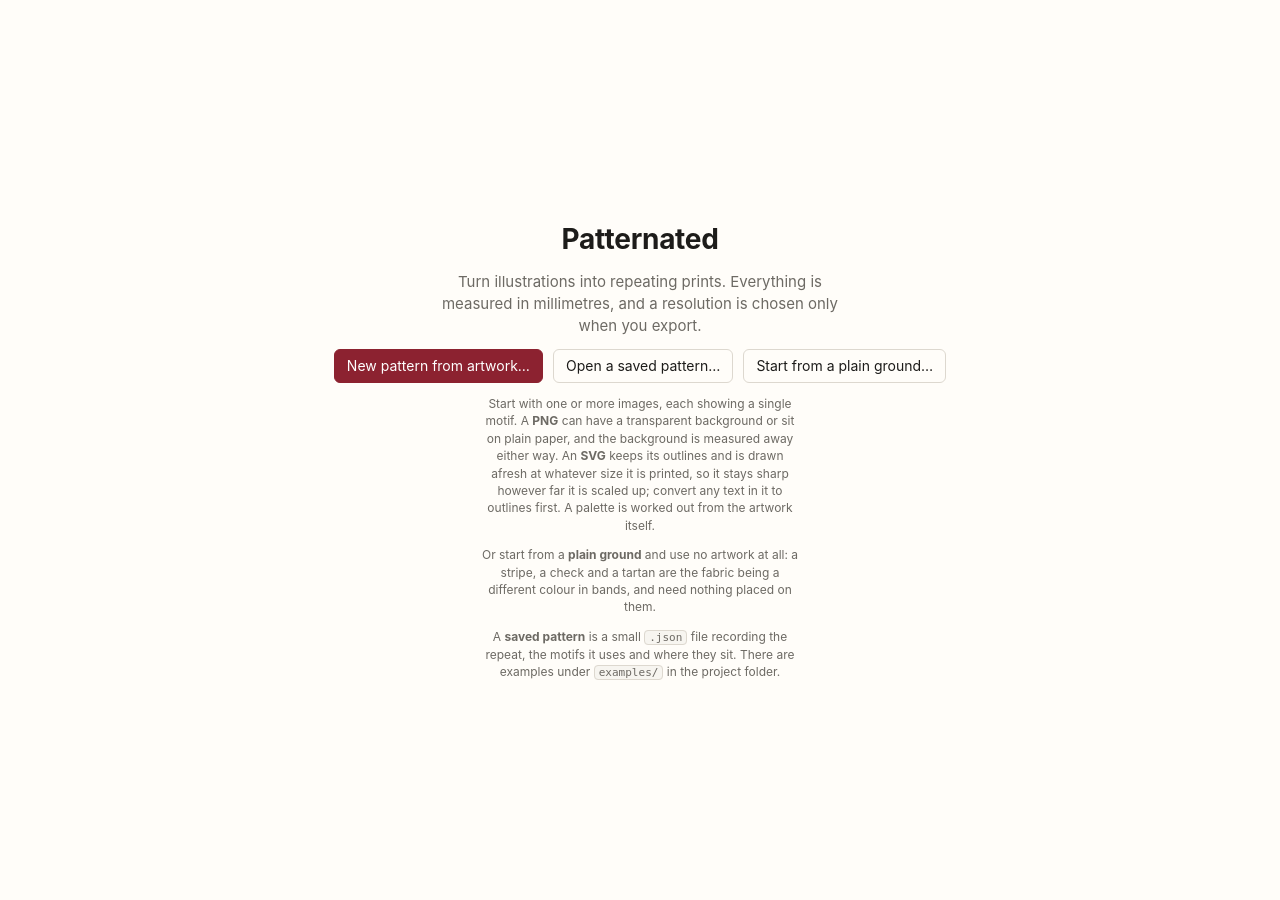
what the ingest wants to say › can be put away, because the artwork did come in
Click the button "Open a saved pattern…": (643, 366) [553,349,733,383]
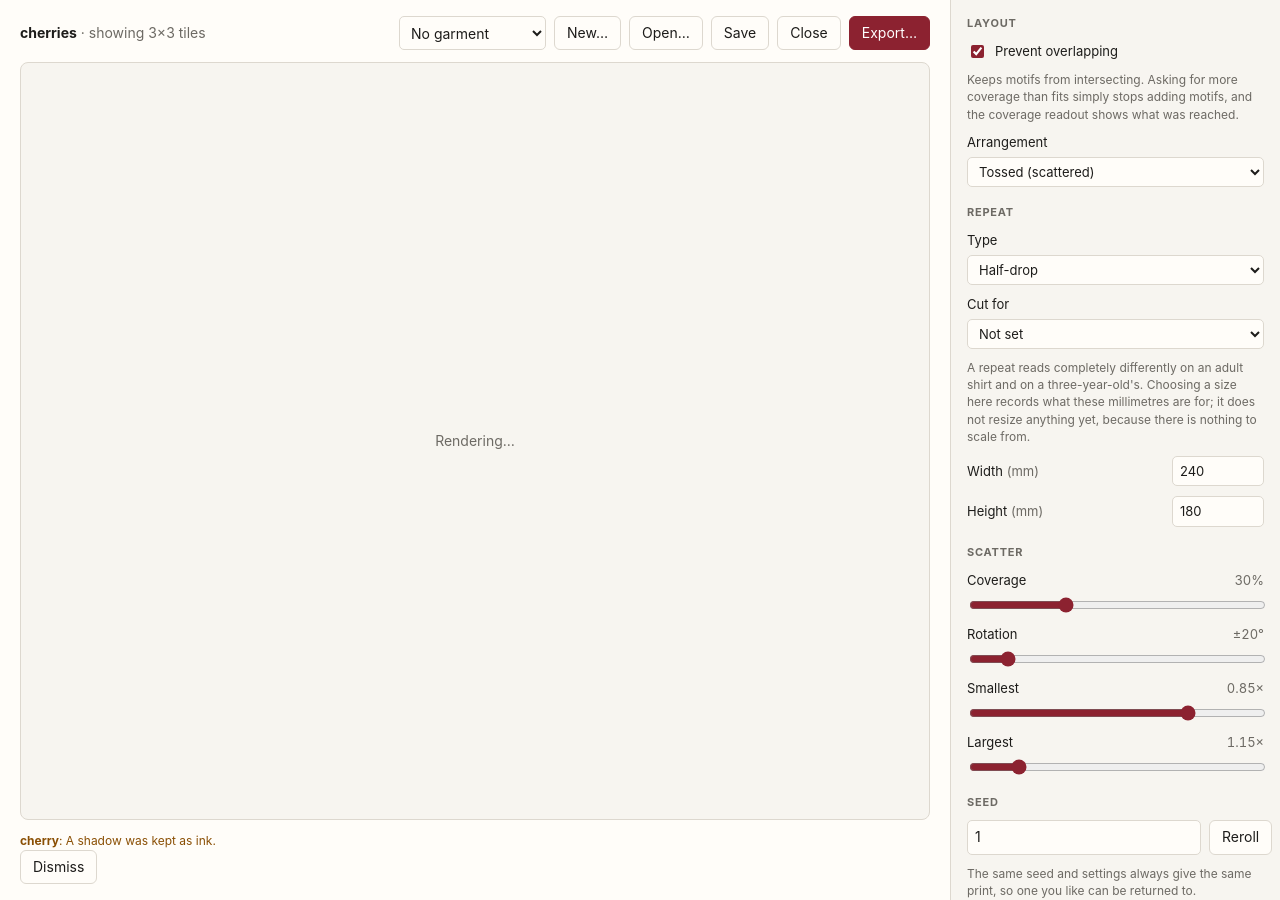
expect the button with test id "close" is shown: met, box [777,16,841,50]
Click the button with test id "dismiss-notes": (59, 867) [20,850,97,884]
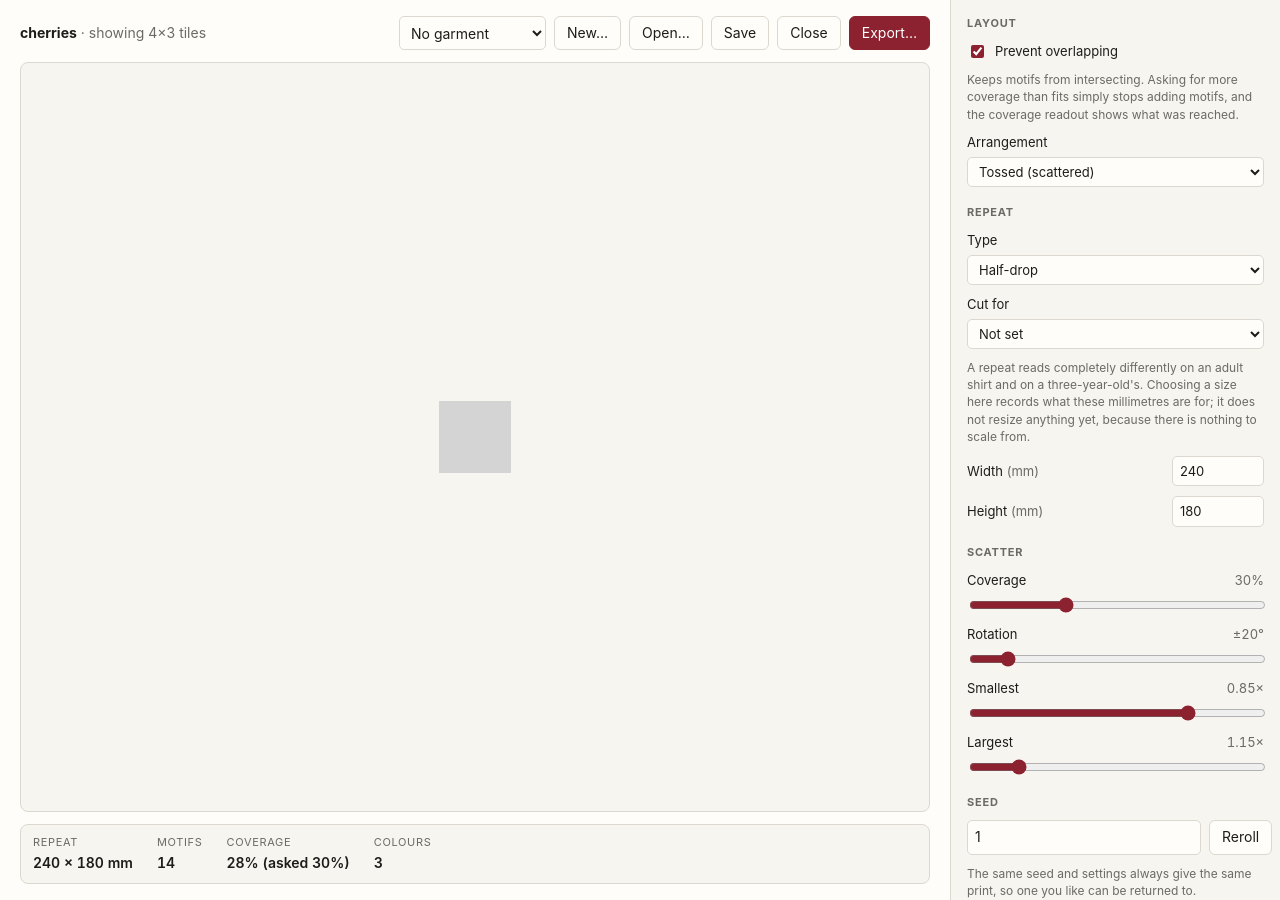
expect the element with test id "ingest-notes" is gone: met
